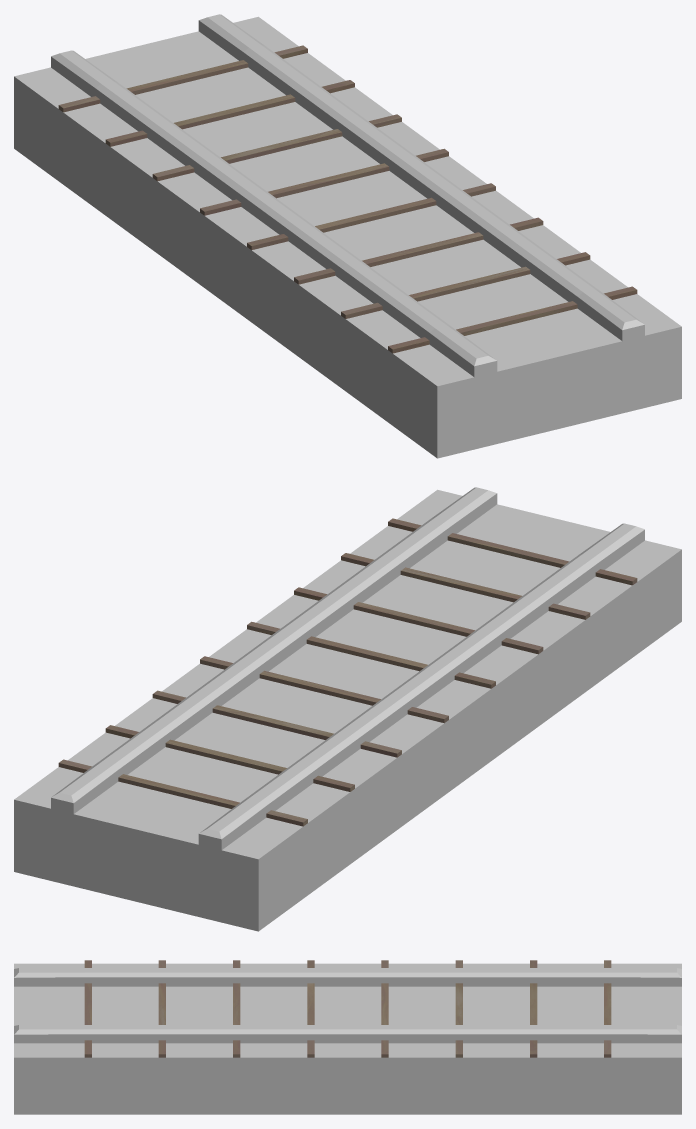
Rendered from tracks.fbx.
3 renders of one model, top to bottom at view 1: azimuth 30°, elevation 25°; view 2: azimuth 150°, elevation 25°; view 3: azimuth 270°, elevation 25°, orthographic. The views are drawn at different scales.
Visible parts, largest first — view 1: Cube; view 2: Cube; view 3: Cube.
Part boxes in pixels (box(x1,y1,x2,y2)): Cube: box(14, 14, 681, 458); Cube: box(14, 487, 681, 931); Cube: box(14, 960, 681, 1114).
Bounding box in the file's own units: 200 × 68.23 × 600.
